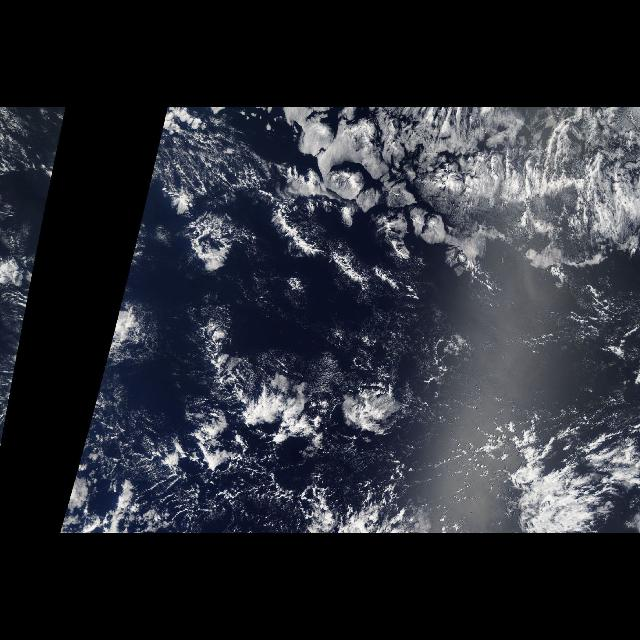Fish: (180, 310, 326, 470), (266, 208, 404, 292)
Flower: (267, 108, 493, 296)
